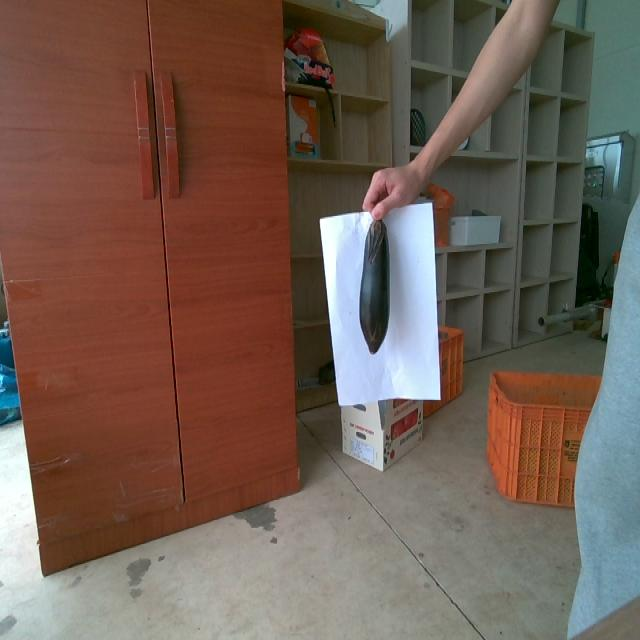Egg plant: (359, 220, 389, 352)
